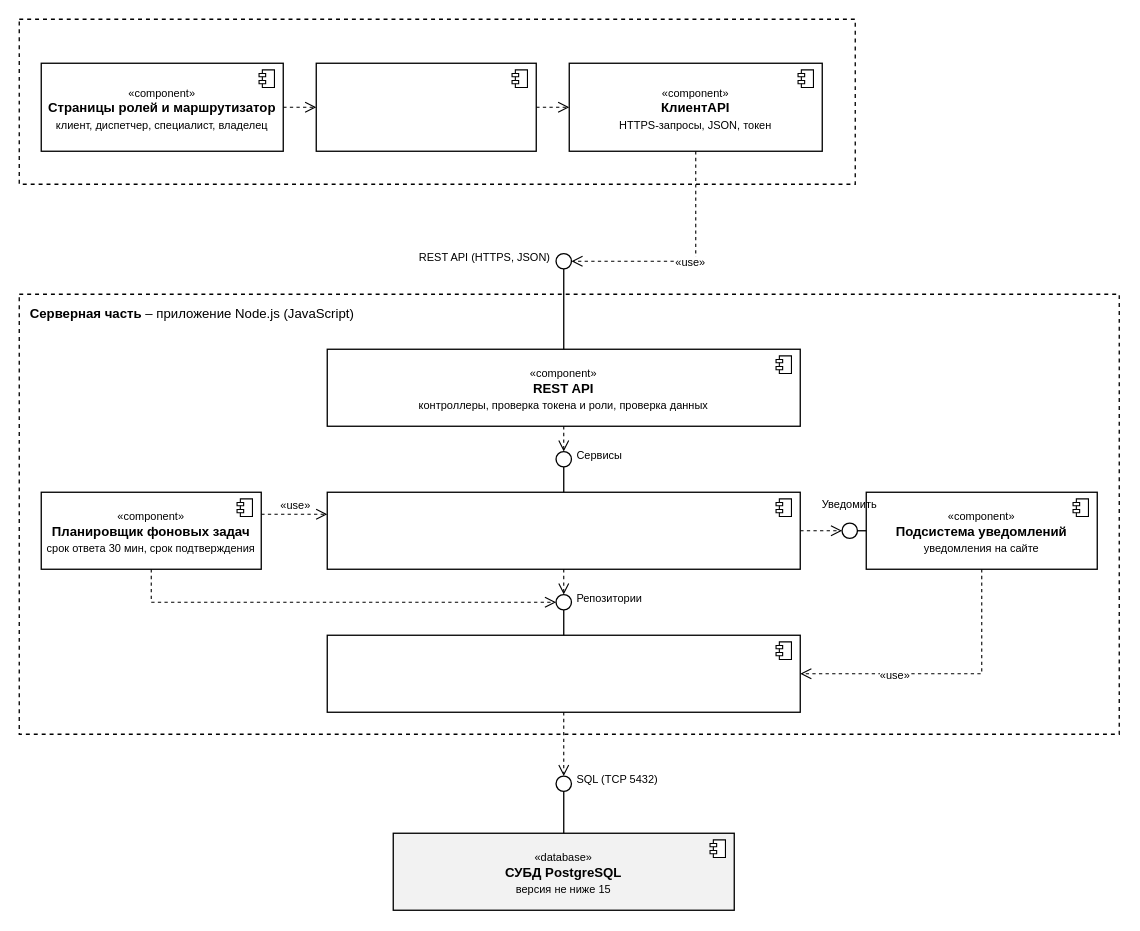
This 1140x931 diagram has some shape labels left out. Each missing label, with the box of its shape:
«component» Бизнес-логика сервисы заявок, назначений, графика, подбора, отзывов: (326, 491, 800, 569)
«component» Доступ к данным репозитории, транзакции, шифрование ПДн: (326, 634, 800, 712)
«component» Хранилище состояния сессия, уведомления: (315, 62, 536, 151)
Клиентская часть – веб-приложение React (выполняется в браузере): (18, 18, 855, 184)
